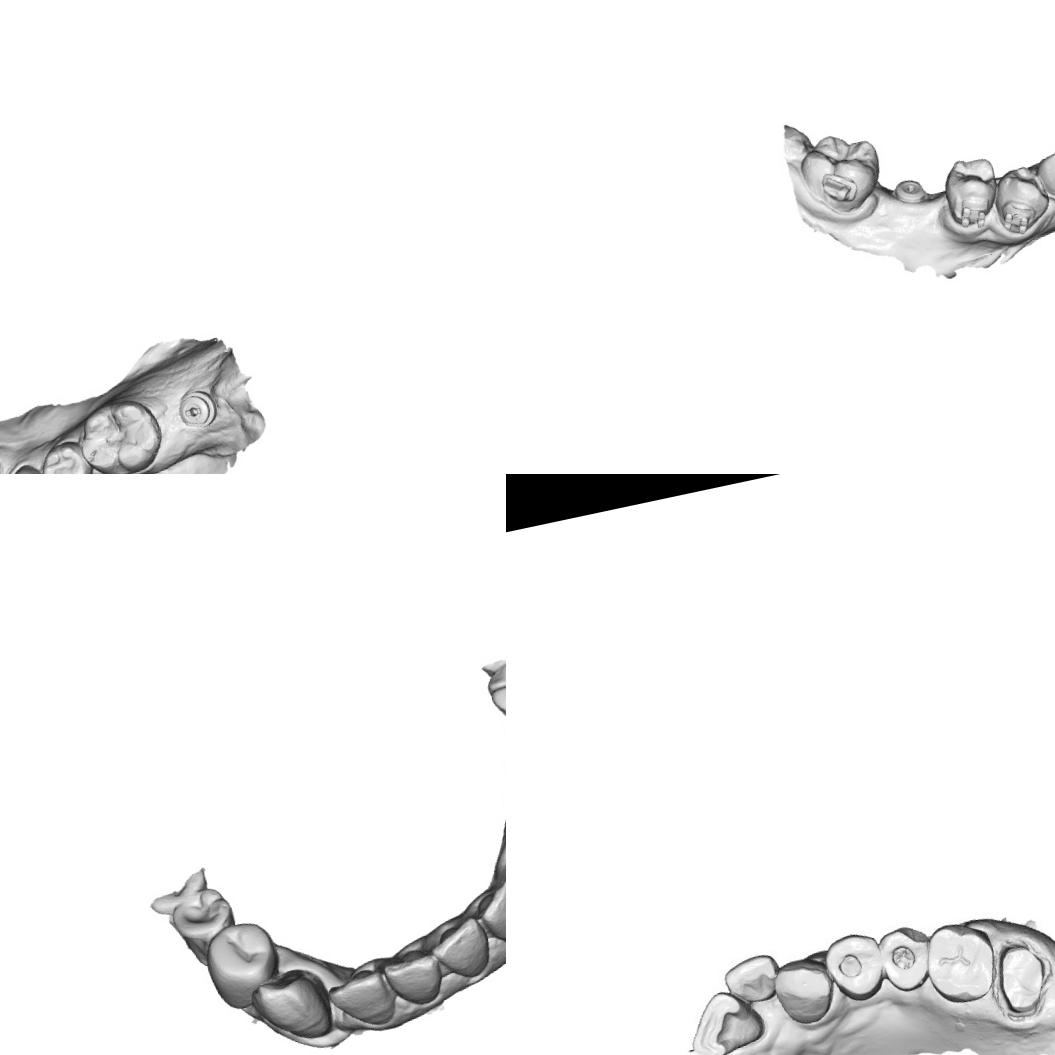canine: (247, 962, 337, 1054), (771, 954, 840, 1031), (1033, 138, 1055, 204)
crown: (987, 936, 1055, 1021)
implant: (892, 174, 931, 210)
implant_minus: (173, 384, 222, 432)
incisor: (681, 985, 769, 1055), (323, 966, 400, 1036), (427, 912, 497, 988), (380, 944, 450, 1014), (720, 949, 784, 1009), (471, 873, 506, 952)
molar: (789, 122, 891, 227), (71, 393, 170, 474), (920, 916, 1002, 1010), (479, 650, 506, 719)
premolar: (200, 916, 288, 1013), (932, 149, 1007, 235), (819, 927, 891, 1008), (168, 884, 242, 959), (986, 160, 1053, 240), (873, 922, 935, 996), (35, 435, 98, 474)
